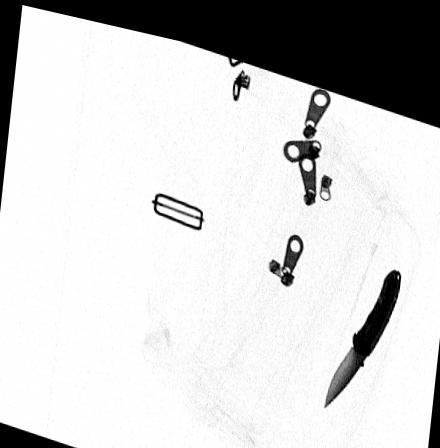Knife: (324, 250, 402, 392)
